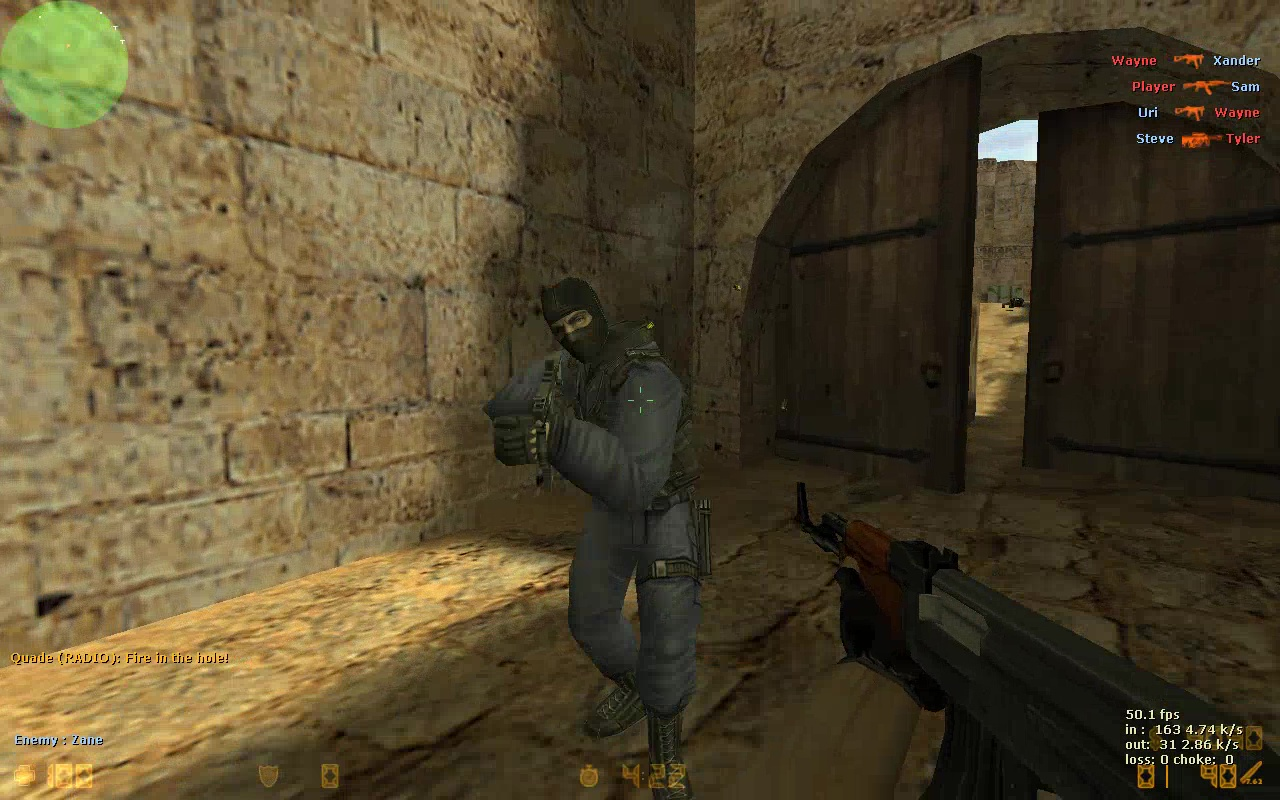ct: (484, 277, 712, 800)
